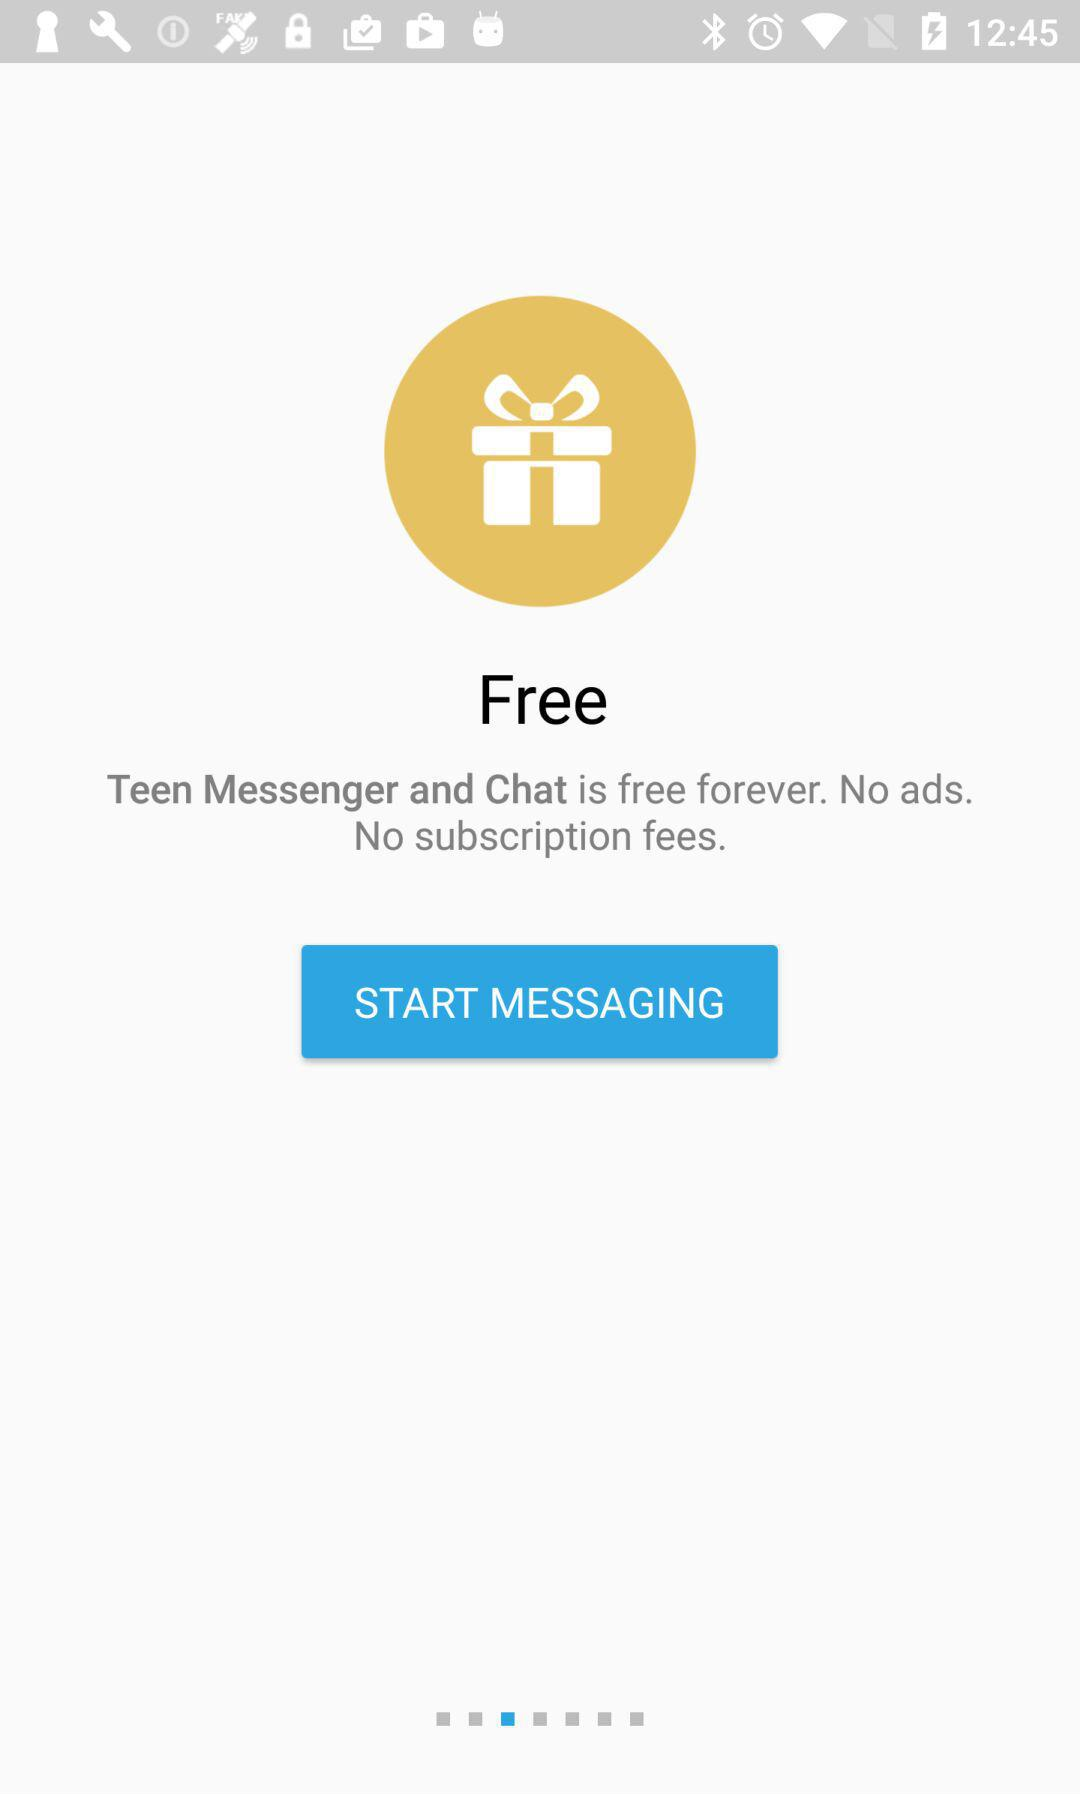Icon: (383, 295, 697, 607)
PageIndicator: (436, 1709, 646, 1727)
Text: (108, 773, 975, 861), (480, 673, 609, 728)
TextButton: (301, 944, 779, 1060)
UpperTaskBar: (1, 1, 1080, 64)
